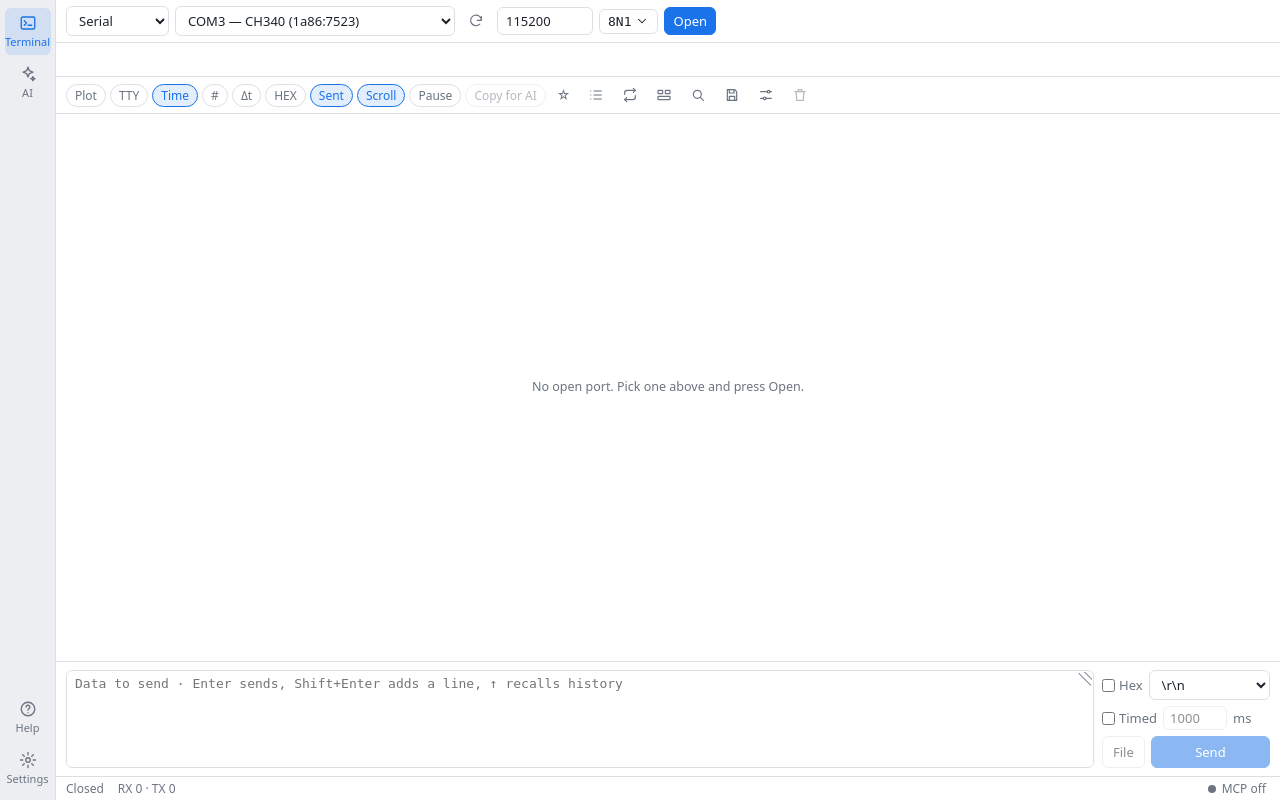
Test: App › follows command edits made in the command window
The image size is (1280, 800).
Later steps or results of the test are not shown.
Click the button named "Commands" at point(596, 95), box [581, 82, 611, 108]
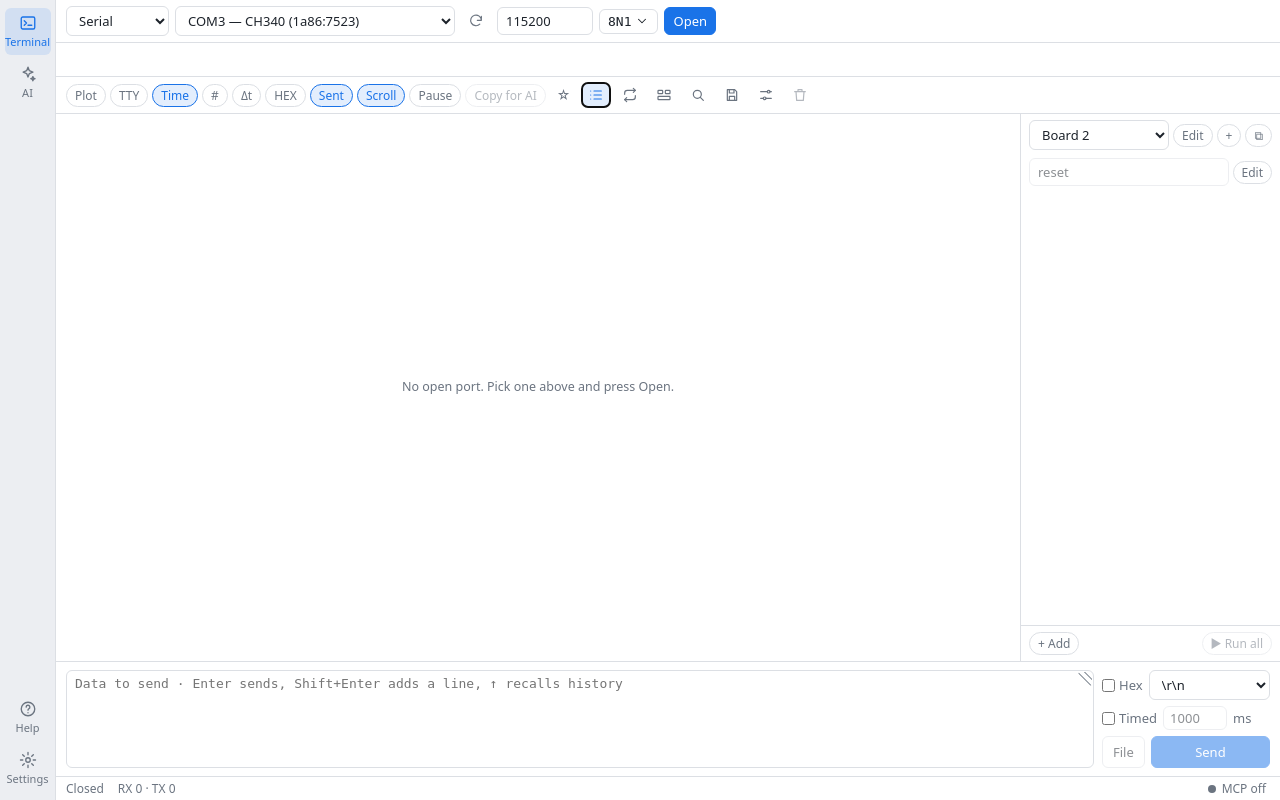
Expected: the button with aria-label "Send reset" is shown, [1029, 158, 1228, 186]
